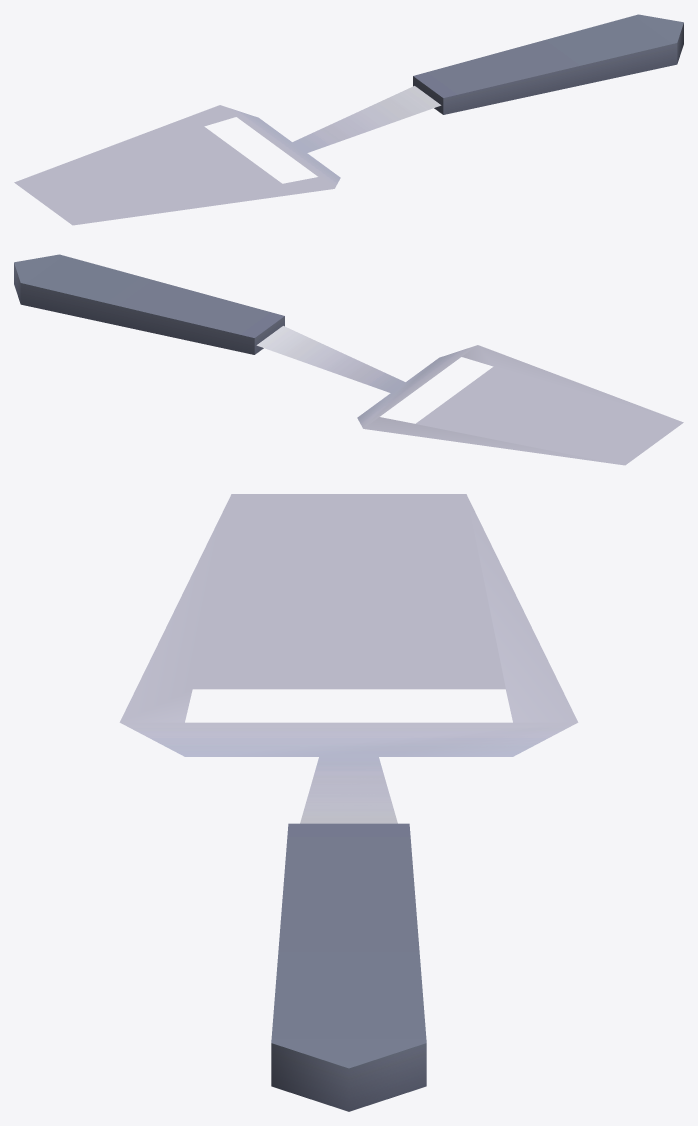
Rendered from cheese-slicer.glb.
3 views of the same model, one above another, from view 1: azimuth 30°, elevation 25°; view 2: azimuth 150°, elevation 25°; view 3: azimuth 270°, elevation 25° (orthographic). The views are drawn at different scales.
Parts seen in each view (by area): view 1: cheese-slicer; view 2: cheese-slicer; view 3: cheese-slicer.
Part boxes in pixels (x1,y1,x2,y2): cheese-slicer: (14, 14, 683, 225); cheese-slicer: (14, 254, 683, 465); cheese-slicer: (119, 494, 578, 1111).
Bounding box in the file's own units: 0.6184 × 0.0292 × 0.1918.
Materials: 1 (1 with a texture image).
